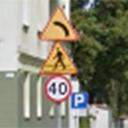speed_limit_40: (42, 72, 74, 104)
